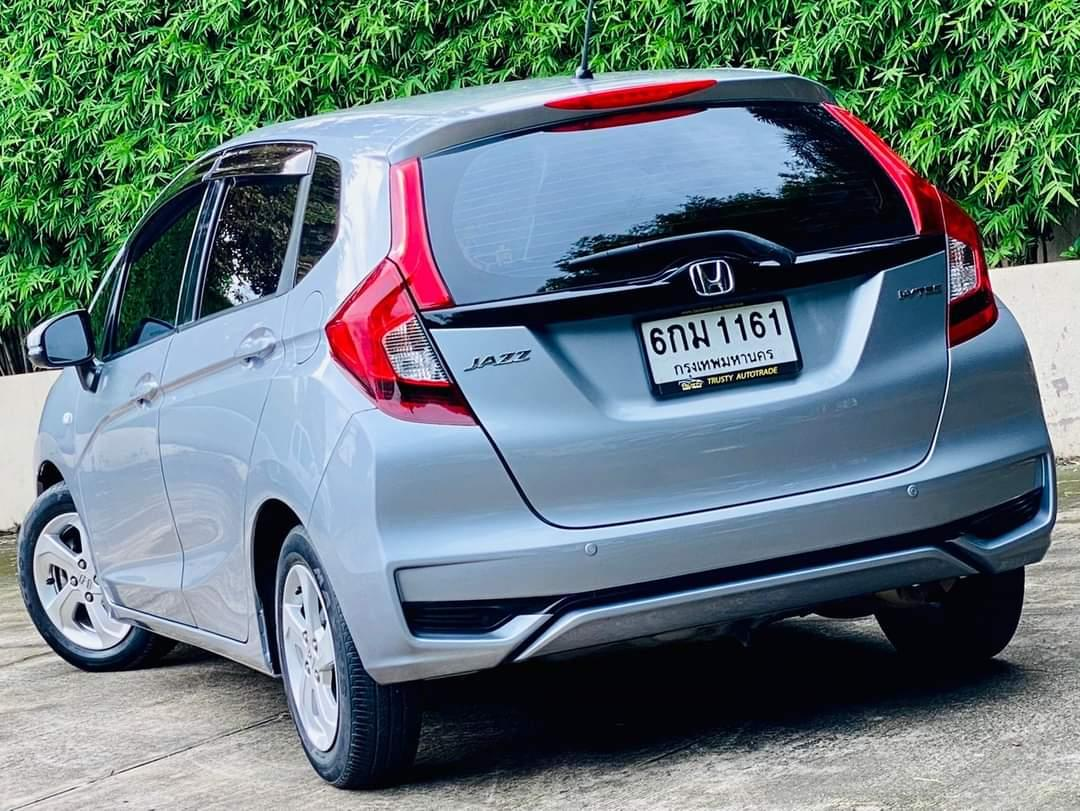license-plate: (634, 292, 808, 404)
